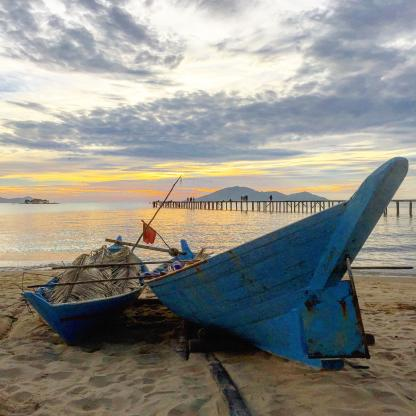fishing boat: (150, 230, 406, 342), (22, 258, 144, 346)
